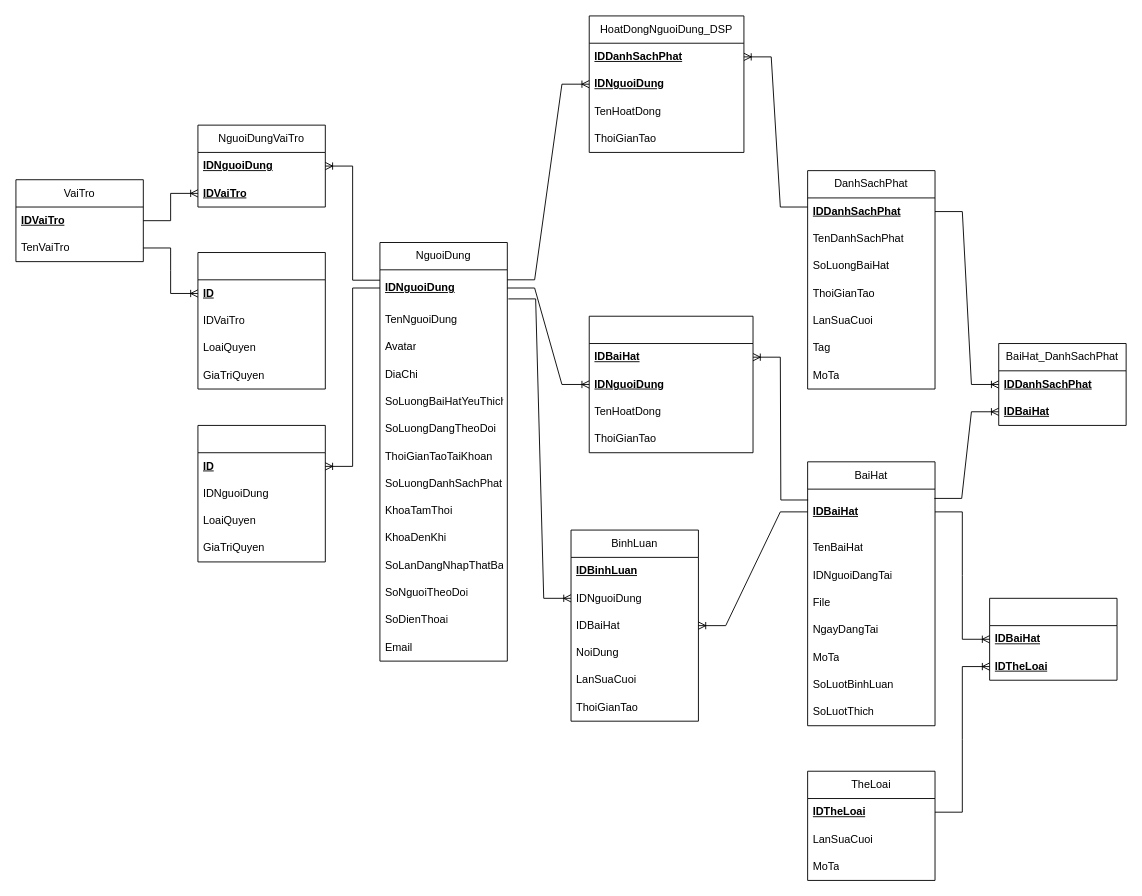
Image size: 1142x896. Some labels were removed from this diagram. Each missing label, with the box of its shape:
BaiHat_TheLoai: (989, 597, 1117, 680)
HoatDongNguoiDung_BaiHat: (588, 315, 753, 453)
NguoiDung_Quyen: (197, 425, 325, 562)
VatTro_Quyen: (197, 252, 325, 389)
